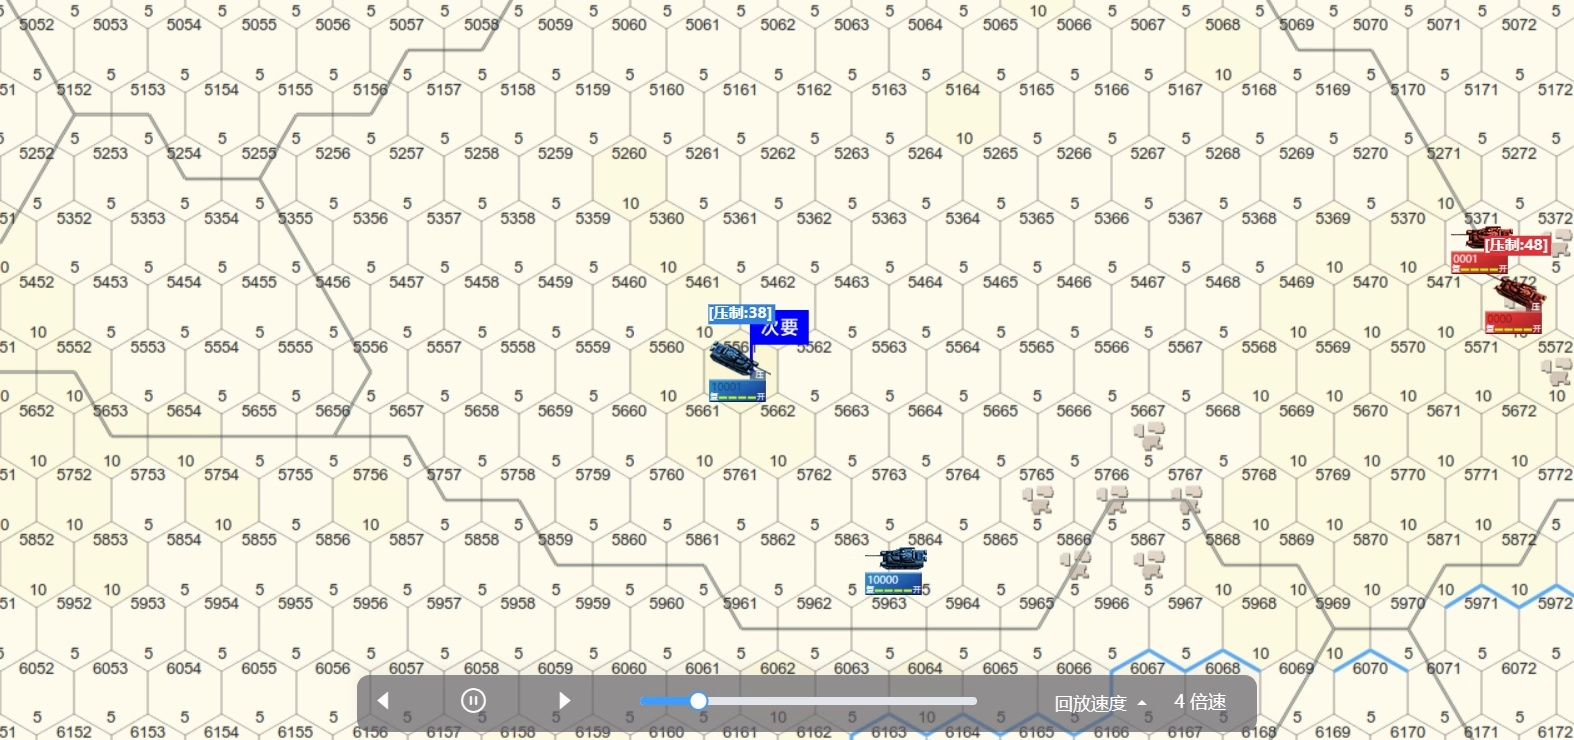blue_tank: (711, 341, 769, 408), (867, 544, 930, 591)
red_tank: (1490, 282, 1543, 340), (1452, 230, 1508, 268)
